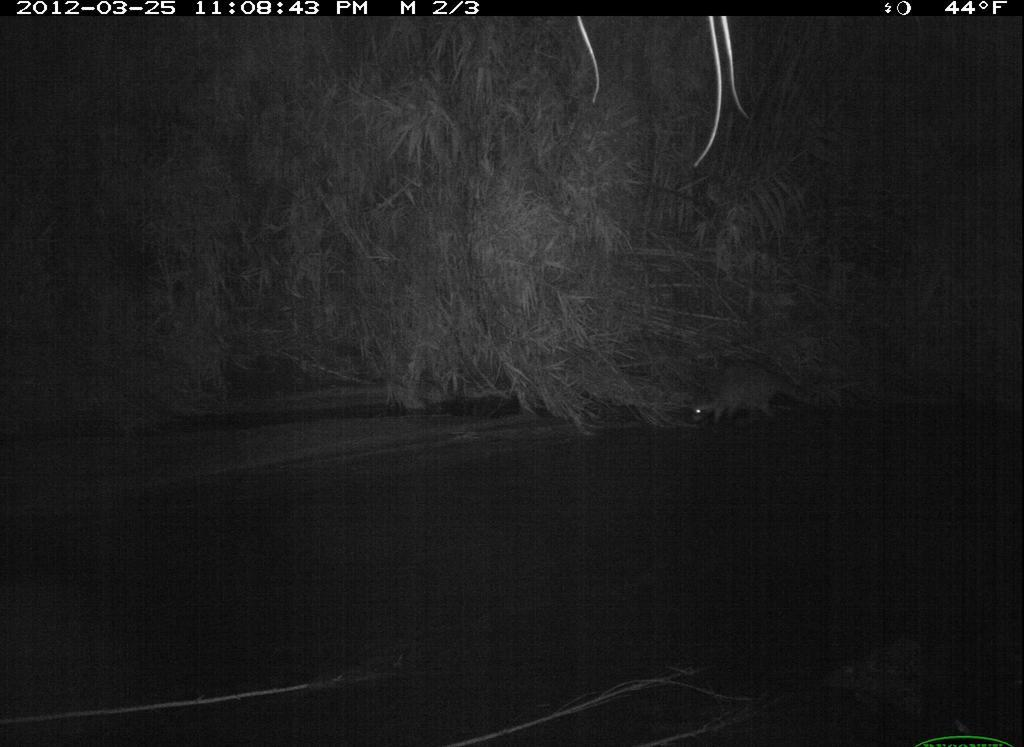raccoon: (691, 356, 845, 435)
